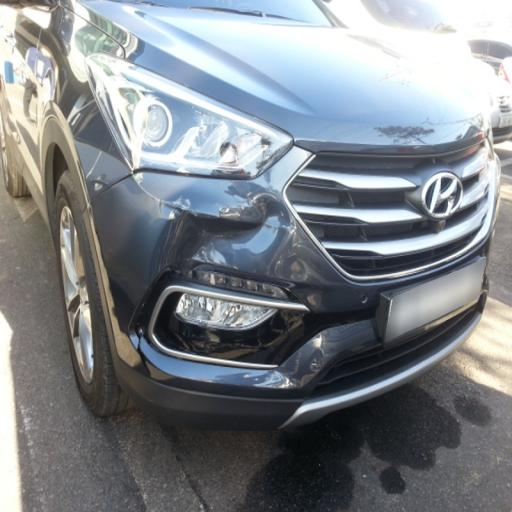broken: (70, 29, 356, 416)
